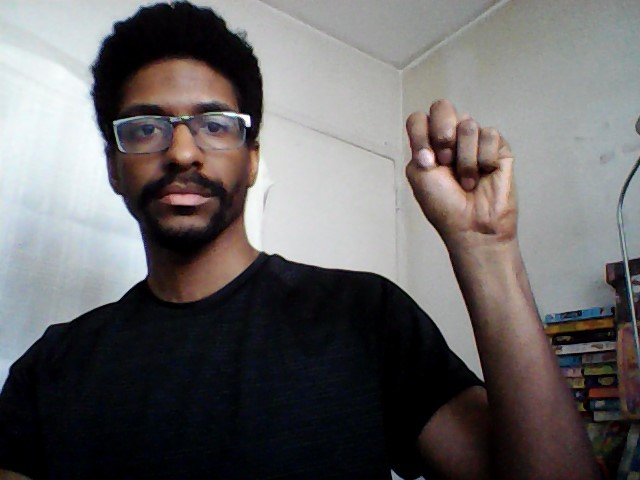n: (399, 95, 527, 240)
